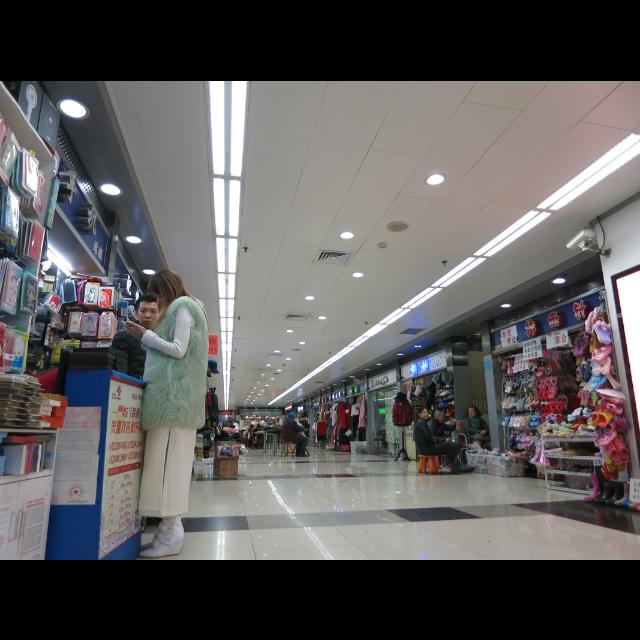head: (148, 268, 184, 310), (135, 294, 161, 328), (418, 406, 430, 420), (434, 409, 446, 423), (468, 406, 478, 418), (289, 412, 297, 421), (228, 416, 232, 422), (258, 424, 262, 430), (251, 424, 255, 428), (303, 415, 307, 419), (245, 424, 247, 426)
person: (107, 290, 171, 536), (412, 405, 476, 475), (425, 407, 459, 469), (462, 405, 498, 461), (281, 410, 311, 458), (298, 412, 312, 448), (252, 424, 268, 451), (223, 416, 234, 446), (246, 423, 256, 449), (242, 422, 250, 440)
